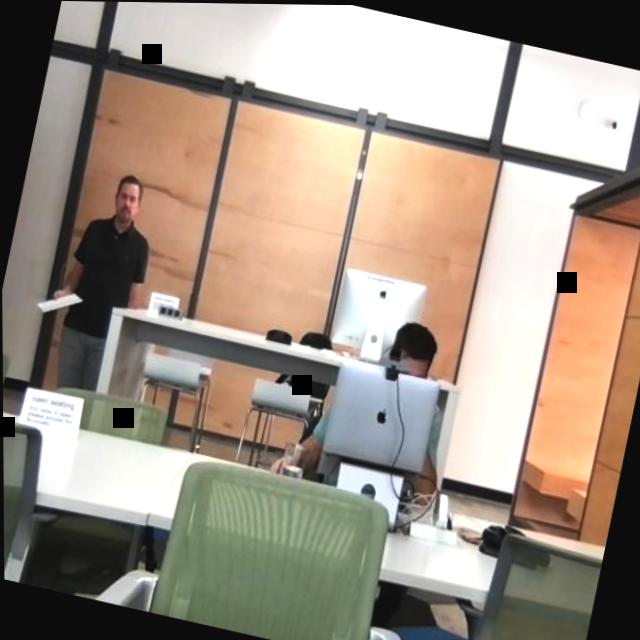NO-Mask: (106, 171, 145, 232)
